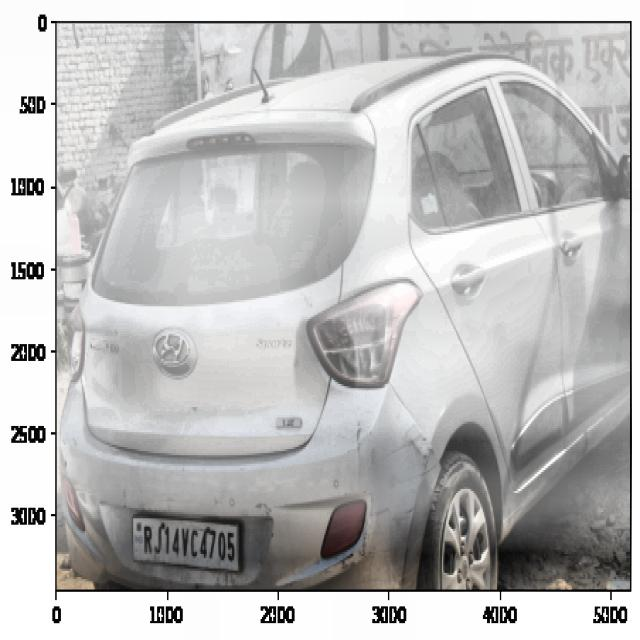license_plate: (132, 517, 238, 572)
